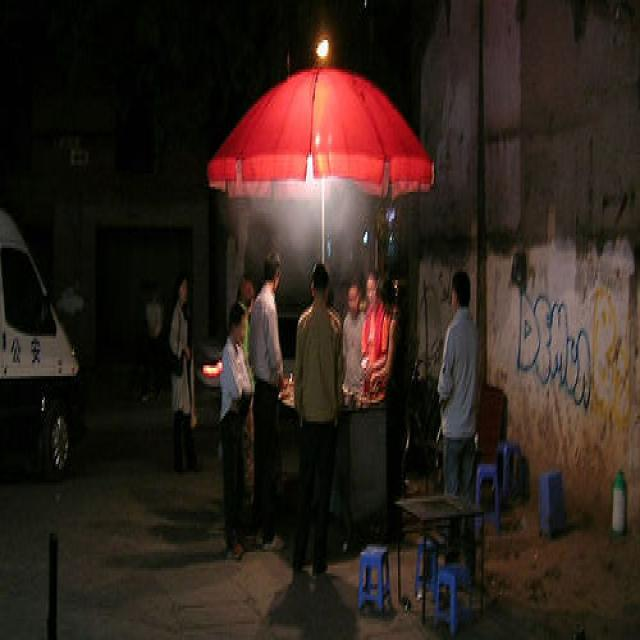Vehicle: (1, 197, 86, 483), (194, 304, 308, 429), (55, 284, 84, 318)
